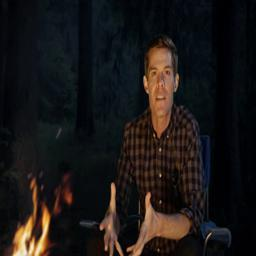fire: (12, 180, 73, 256)
